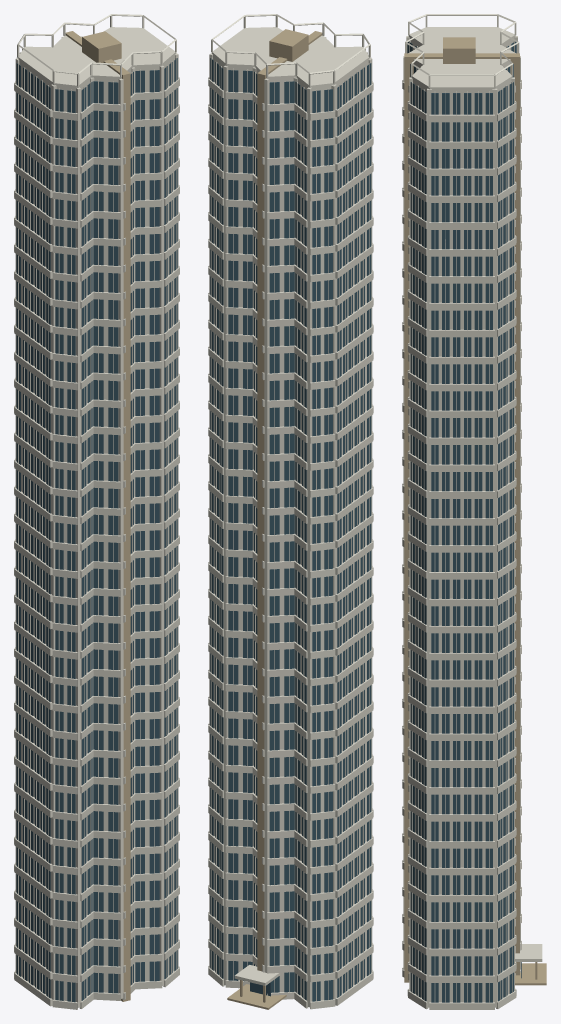
File: KOL_T1_URBANA__Tower_05.fbx
3 views of the same model, side by side, from view 1: azimuth 30°, elevation 25°; view 2: azimuth 150°, elevation 25°; view 3: azimuth 270°, elevation 25° (orthographic).
Visible parts, largest first — view 1: KOL_T1_URBANA__Tower_05__KOL_T1_Pearl, KOL_T1_URBANA__Tower_05__KOL_T1_Glass, KOL_T1_URBANA__Tower_05__KOL_T1_Pearl.001, KOL_T1_URBANA__Tower_05__KOL_T1_Stone; view 2: KOL_T1_URBANA__Tower_05__KOL_T1_Pearl, KOL_T1_URBANA__Tower_05__KOL_T1_Glass, KOL_T1_URBANA__Tower_05__KOL_T1_Pearl.001, KOL_T1_URBANA__Tower_05__KOL_T1_Stone; view 3: KOL_T1_URBANA__Tower_05__KOL_T1_Pearl, KOL_T1_URBANA__Tower_05__KOL_T1_Glass, KOL_T1_URBANA__Tower_05__KOL_T1_Stone, KOL_T1_URBANA__Tower_05__KOL_T1_Pearl.001.
Part boxes in pixels (x1,y1,x2,y2): KOL_T1_URBANA__Tower_05__KOL_T1_Pearl: (14,37,179,1009); KOL_T1_URBANA__Tower_05__KOL_T1_Glass: (16,58,177,1002); KOL_T1_URBANA__Tower_05__KOL_T1_Pearl.001: (14,14,179,255); KOL_T1_URBANA__Tower_05__KOL_T1_Stone: (65,31,130,1001); KOL_T1_URBANA__Tower_05__KOL_T1_Pearl: (208,37,373,1009); KOL_T1_URBANA__Tower_05__KOL_T1_Glass: (210,58,371,1001); KOL_T1_URBANA__Tower_05__KOL_T1_Pearl.001: (208,14,373,985); KOL_T1_URBANA__Tower_05__KOL_T1_Stone: (227,29,322,1009); KOL_T1_URBANA__Tower_05__KOL_T1_Pearl: (402,36,521,1009); KOL_T1_URBANA__Tower_05__KOL_T1_Glass: (407,41,521,1002); KOL_T1_URBANA__Tower_05__KOL_T1_Stone: (404,37,546,985); KOL_T1_URBANA__Tower_05__KOL_T1_Pearl.001: (402,14,542,961).
Bounding box in the file's own units: 50.8 × 349 × 48.68.
